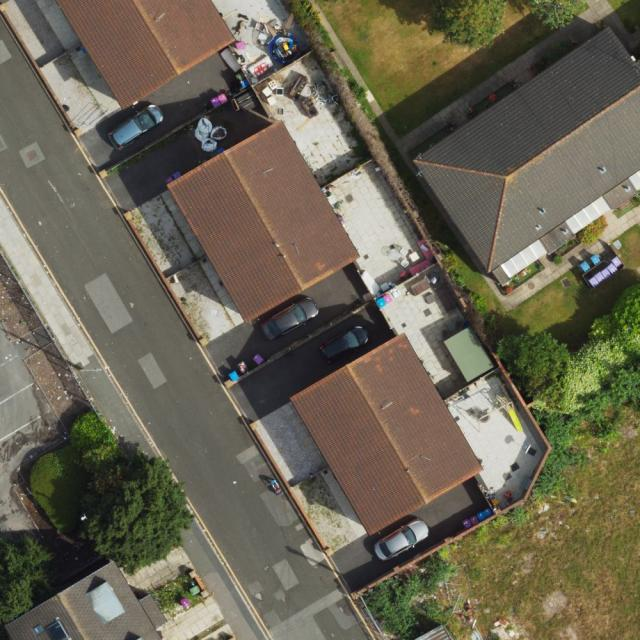roof: (414, 25, 640, 284), (289, 332, 483, 538), (166, 119, 358, 323), (53, 0, 237, 109), (4, 561, 168, 640)
skylight: (500, 236, 549, 281), (565, 195, 611, 235), (629, 169, 640, 193), (31, 623, 44, 635)
solar: (46, 617, 72, 640)
